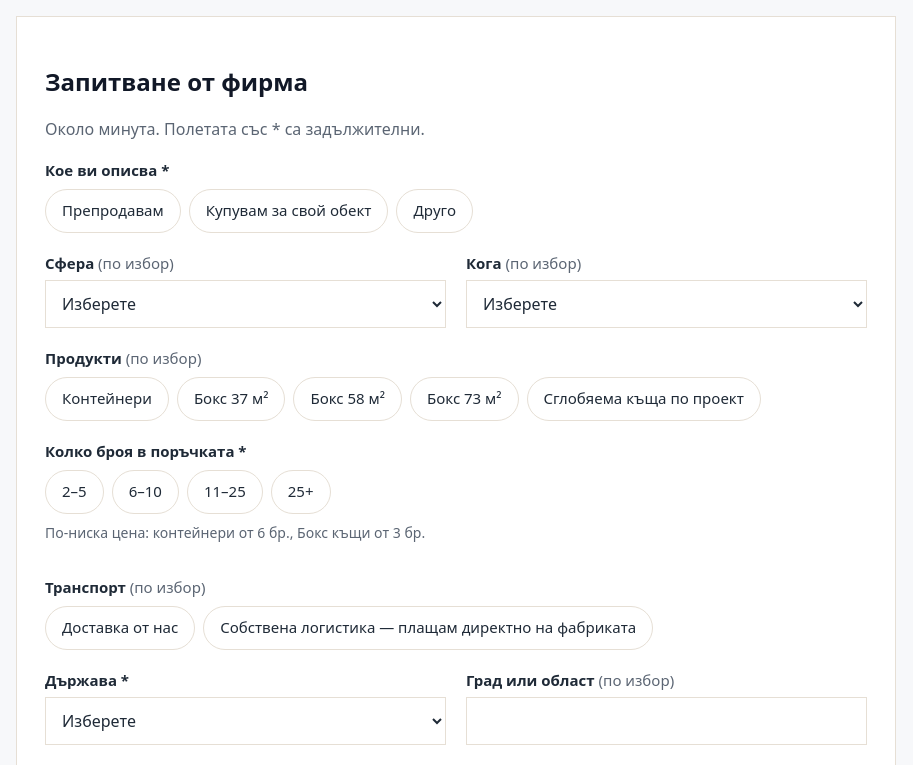
Test: PartnerEnquiry › the Box lead-time note › appears when a Box house is wanted within a month
The image size is (913, 765).
Click the checkbox labelled "Бокс 37 м²". click: (231, 399)
box: [177, 377, 285, 421]
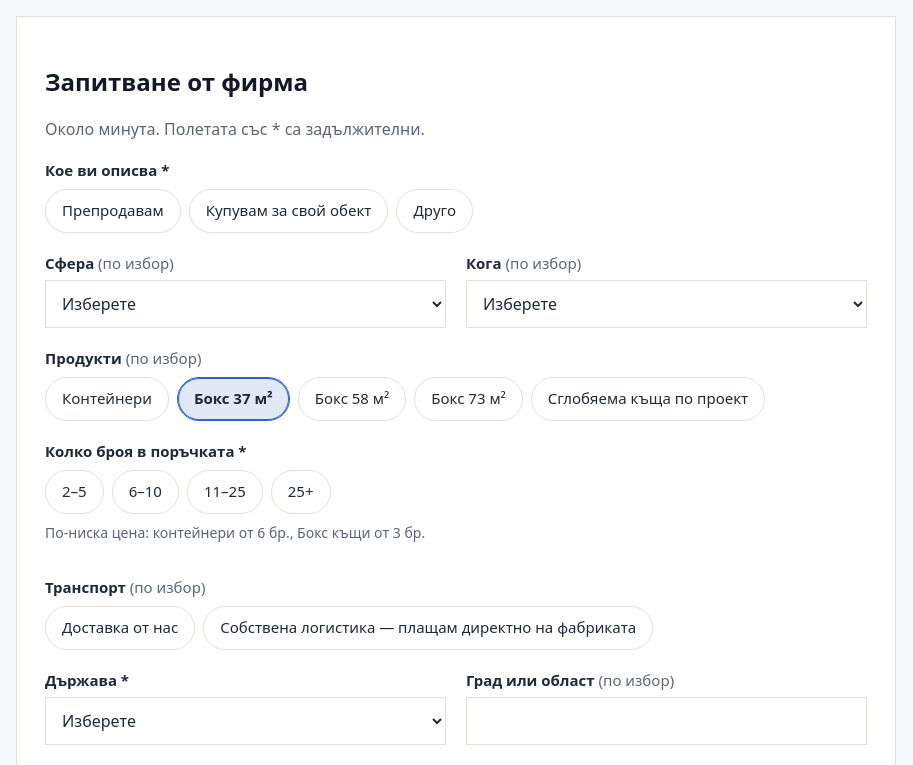
Select "До 1 месец" in the dropdown labelled "Кога (по избор)". click: (666, 304)
box: [466, 280, 867, 328]
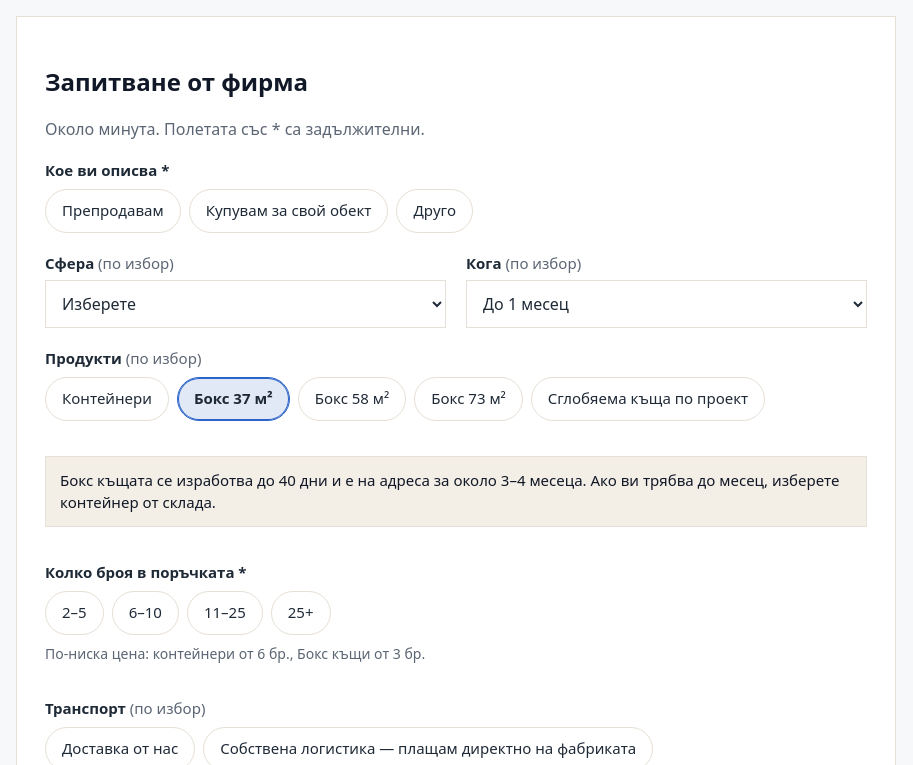
Expected: the message shows "40", [60, 470, 840, 512]
Expected: the message shows "3–4", [60, 470, 840, 512]
